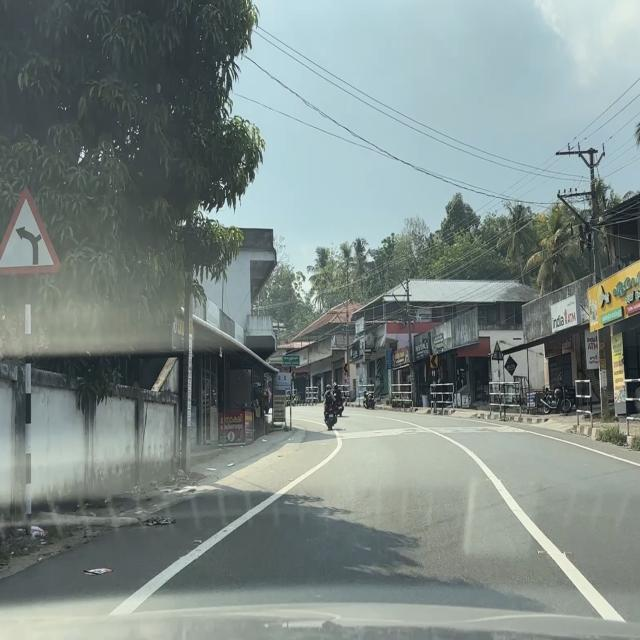GENERAL: (282, 355, 300, 366)
LEFT_TURN_AHEAD: (1, 185, 66, 276)
TURN_LEFT: (429, 354, 438, 368), (343, 363, 349, 373), (291, 372, 296, 378)
